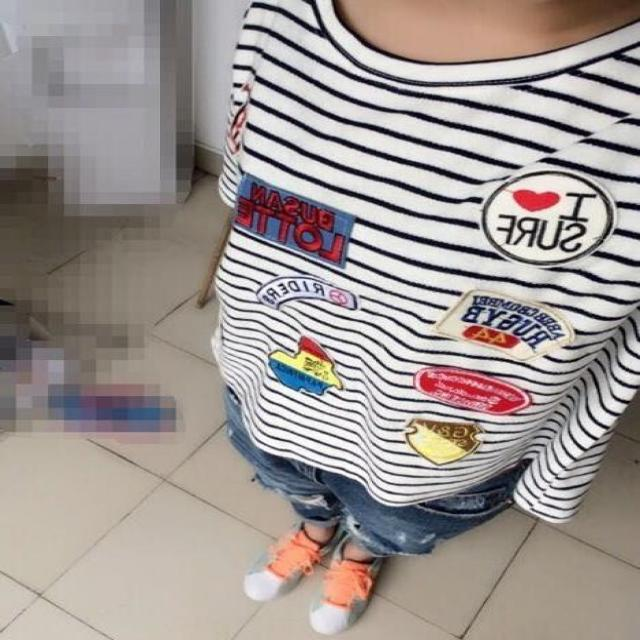short sleeve top: (212, 1, 639, 518)
trousers: (231, 397, 517, 558)
